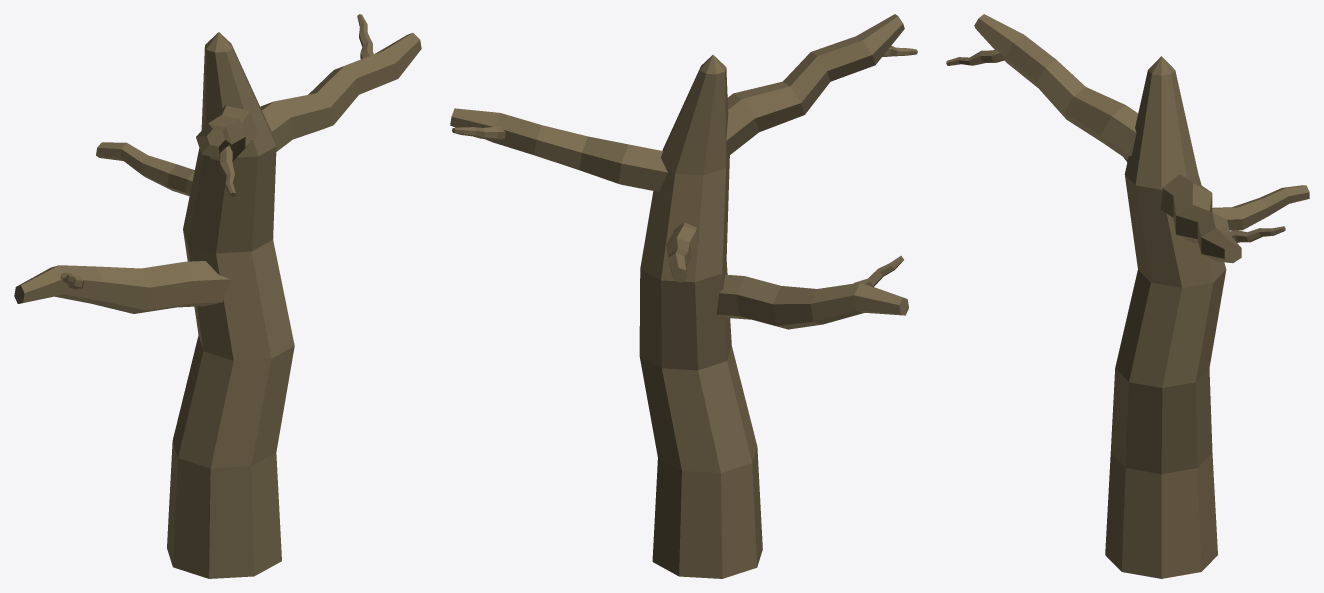
File: Dead tree.fbx
The picture shows the model from 3 angles, left to right: view 1: azimuth 30°, elevation 25°; view 2: azimuth 150°, elevation 25°; view 3: azimuth 270°, elevation 25°; orthographic projection. The views are drawn at different scales.
Parts seen in each view (by area): view 1: Trunk, L_Branch, R_Branch, B_Branch, F_Branch, F_subBranch; view 2: Trunk, F_Branch, R_Branch, L_Branch, B_Branch; view 3: Trunk, F_Branch, R_Branch, B_Branch, F_subBranch, R_subBranch.
Boxes of the visible parts, x1,y1,x2,y2 form: Trunk: [167, 32, 294, 578]; L_Branch: [14, 261, 230, 313]; R_Branch: [260, 33, 421, 151]; B_Branch: [96, 142, 194, 196]; F_Branch: [196, 105, 257, 161]; F_subBranch: [219, 145, 235, 196]; Trunk: [639, 55, 762, 578]; F_Branch: [726, 14, 904, 156]; R_Branch: [450, 108, 667, 191]; L_Branch: [716, 274, 908, 329]; B_Branch: [666, 222, 698, 282]; Trunk: [1105, 56, 1226, 578]; F_Branch: [974, 14, 1138, 159]; R_Branch: [1161, 174, 1241, 263]; B_Branch: [1212, 185, 1309, 230]; F_subBranch: [946, 49, 1005, 65]; R_subBranch: [1228, 226, 1285, 242].
Size of the model in its own units: 3.99 by 4.57 by 3.03.
